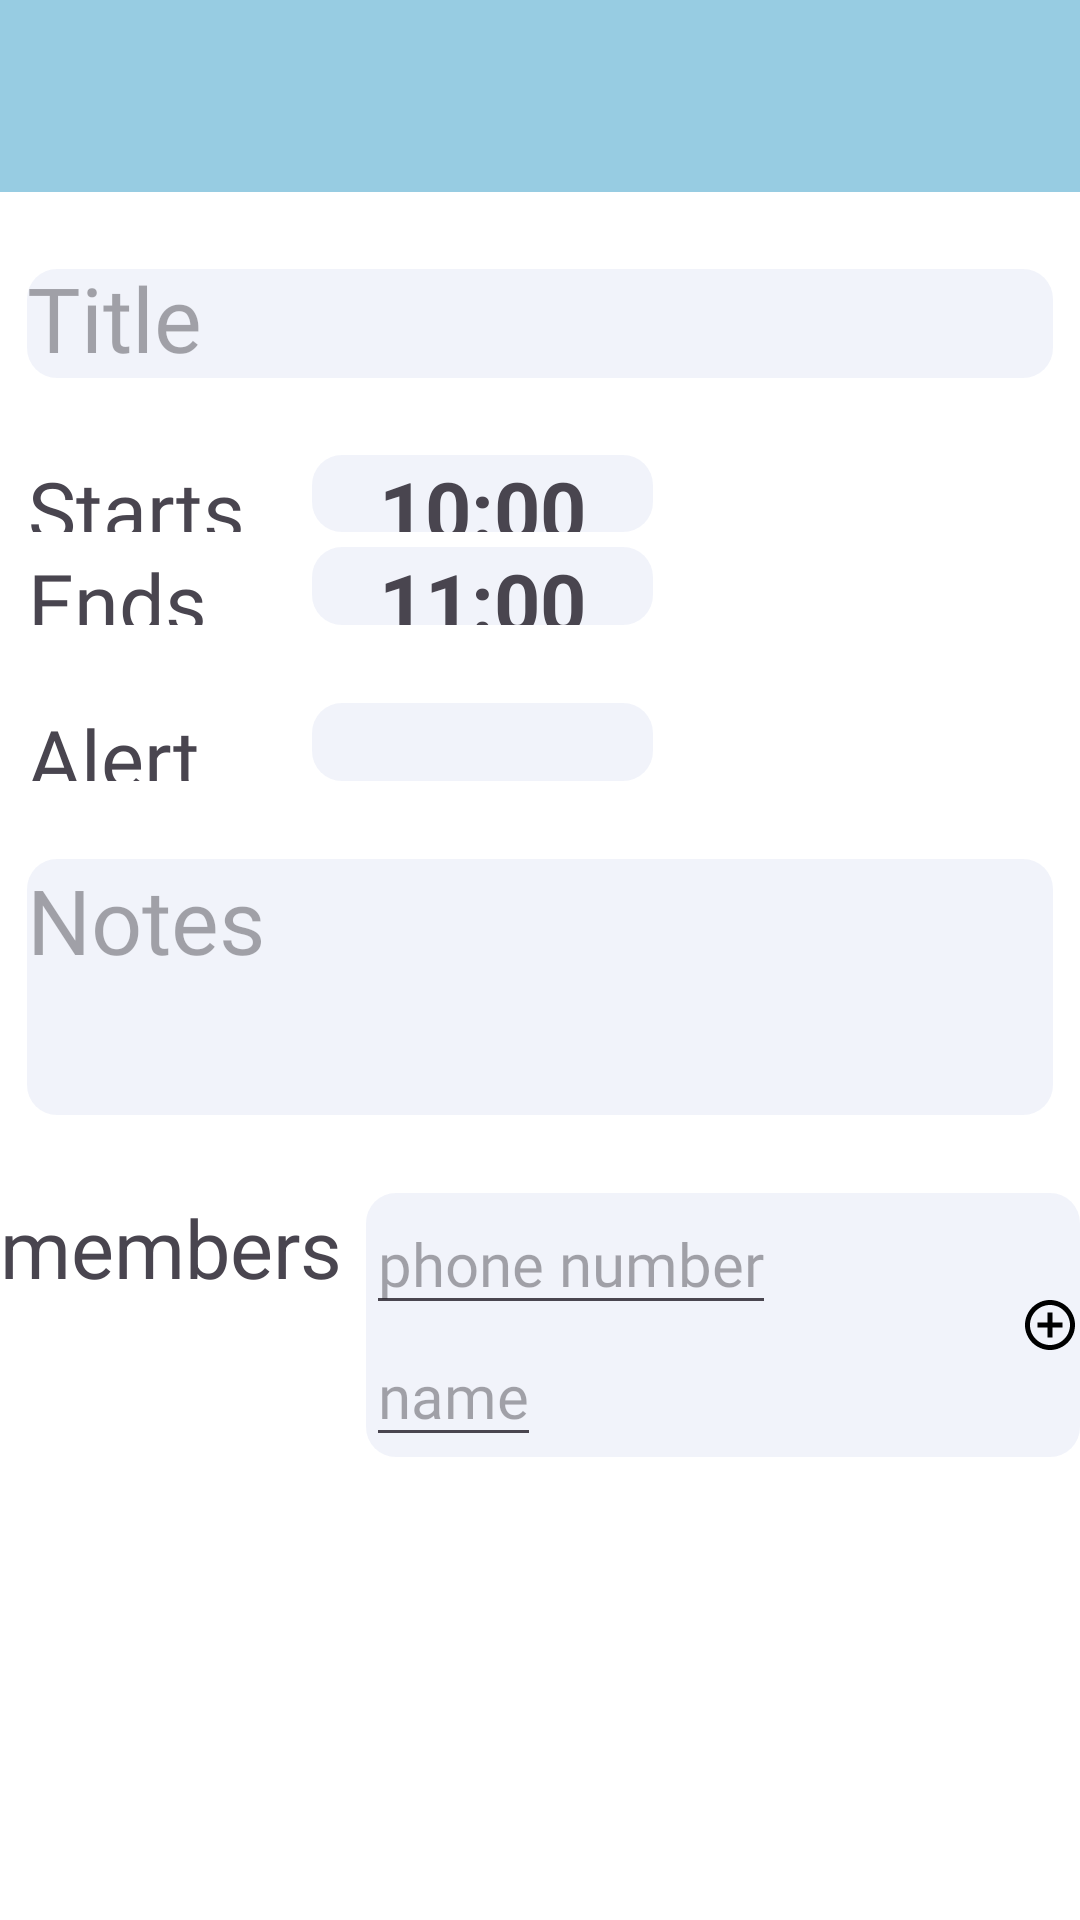

Locate icon controls on the screen. Image size 1080 x 1920, boxes as (x1, y1, x2, y2).
add: (1025, 1300, 1075, 1350)
